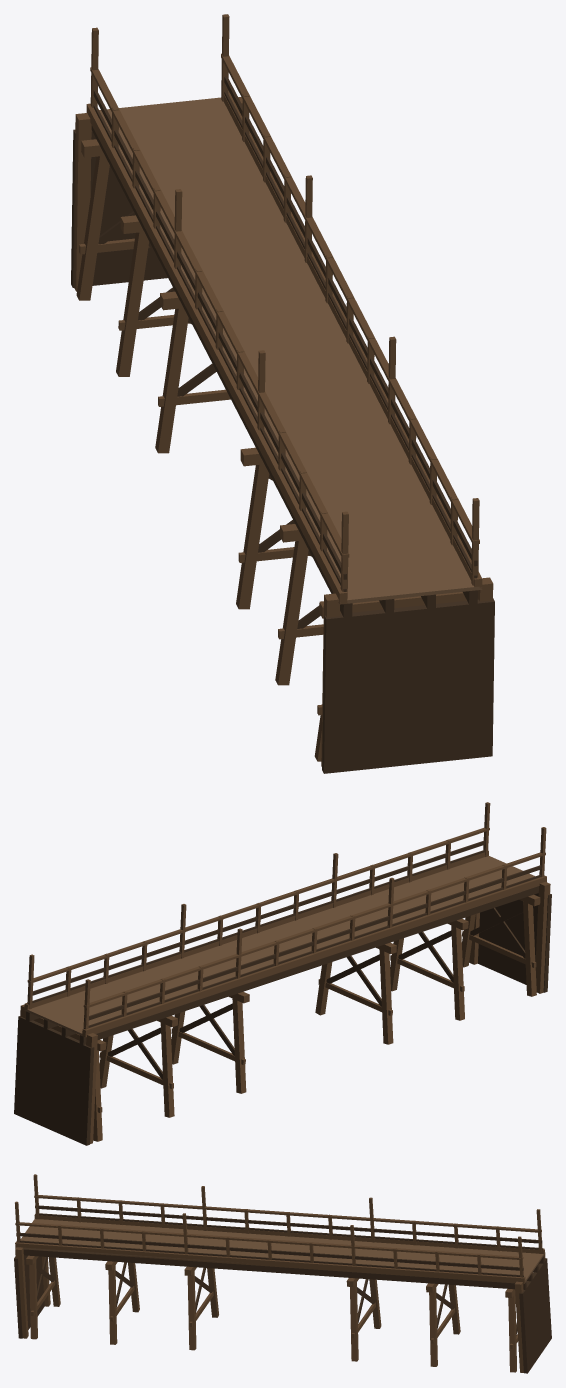
File: SM_Bridge_ForestTrail2.fbx
3 views of the same model, one above another, from view 1: azimuth 30°, elevation 25°; view 2: azimuth 150°, elevation 25°; view 3: azimuth 270°, elevation 25° (orthographic). The views are drawn at different scales.
Visible parts, largest first — view 1: SM_Bridge_ForestTrail2; view 2: SM_Bridge_ForestTrail2; view 3: SM_Bridge_ForestTrail2.
Boxes of the visible parts, box(x1,y1,x2,y2) form: SM_Bridge_ForestTrail2: box(71, 14, 494, 773); SM_Bridge_ForestTrail2: box(14, 802, 551, 1145); SM_Bridge_ForestTrail2: box(14, 1174, 551, 1373).
Bounding box in the file's own units: 10.44 × 7.85 × 24.16.
